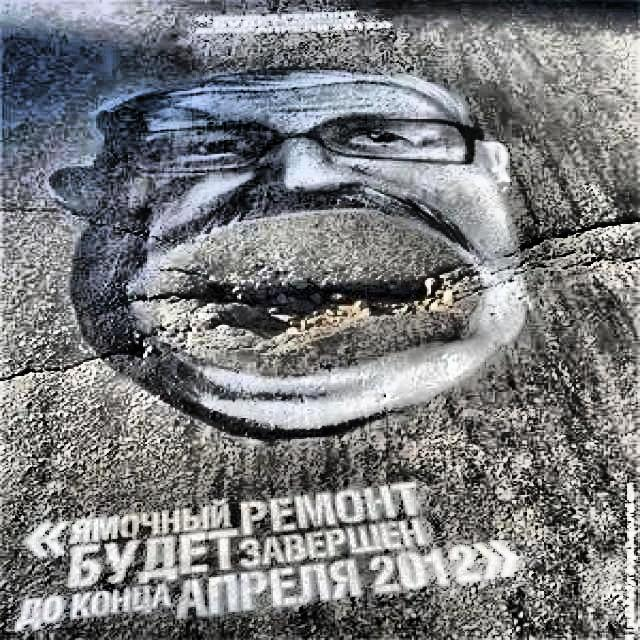buraco: (188, 264, 454, 327)
